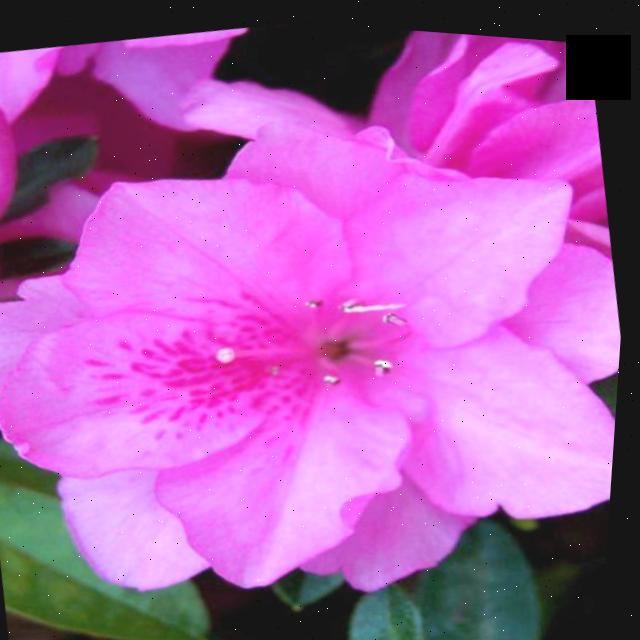azalea: (0, 75, 636, 640)
